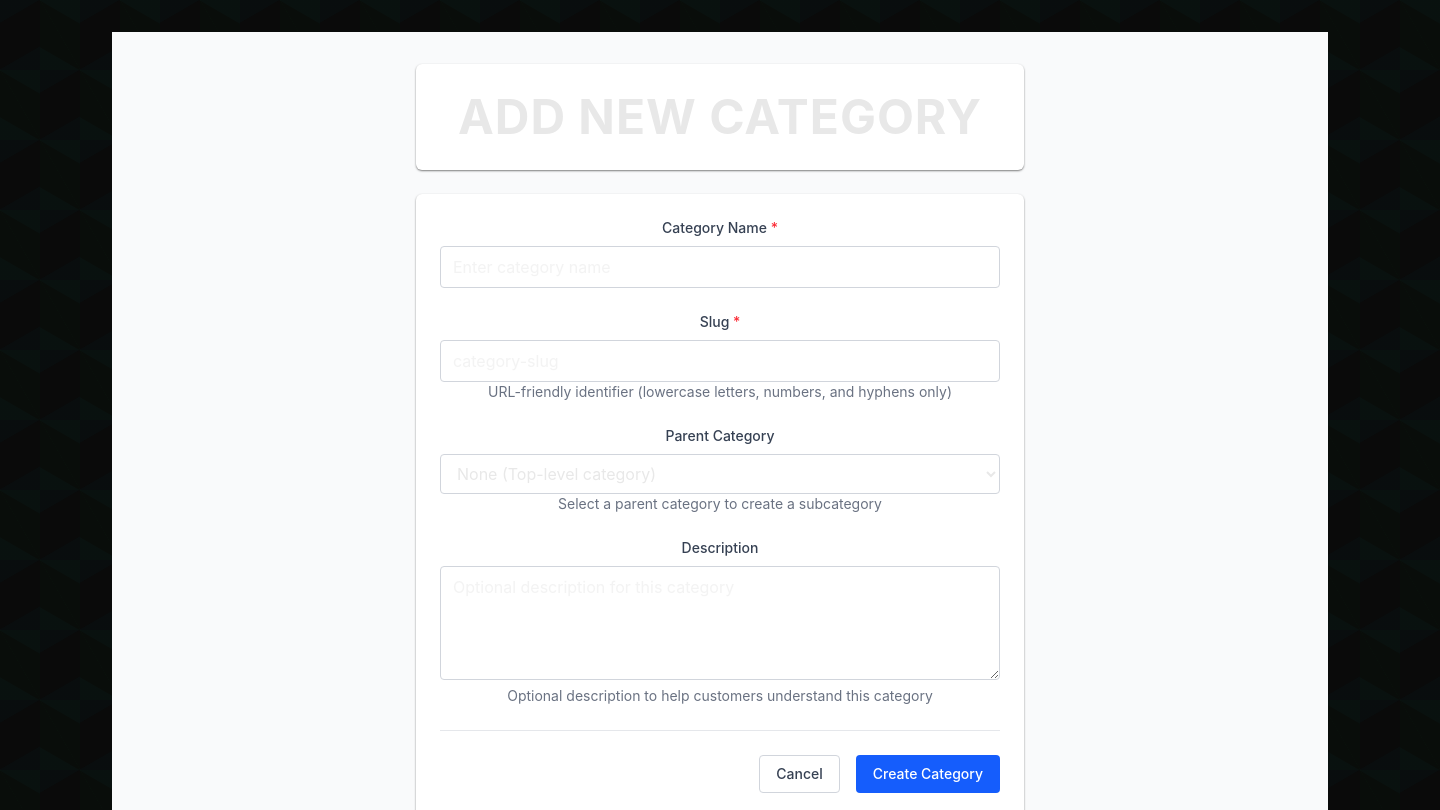
AdminCategoryFormPage › validates required fields on submit
Click the button "Create Category" at [928, 774], box x1=856 y1=755 x2=1000 y2=793
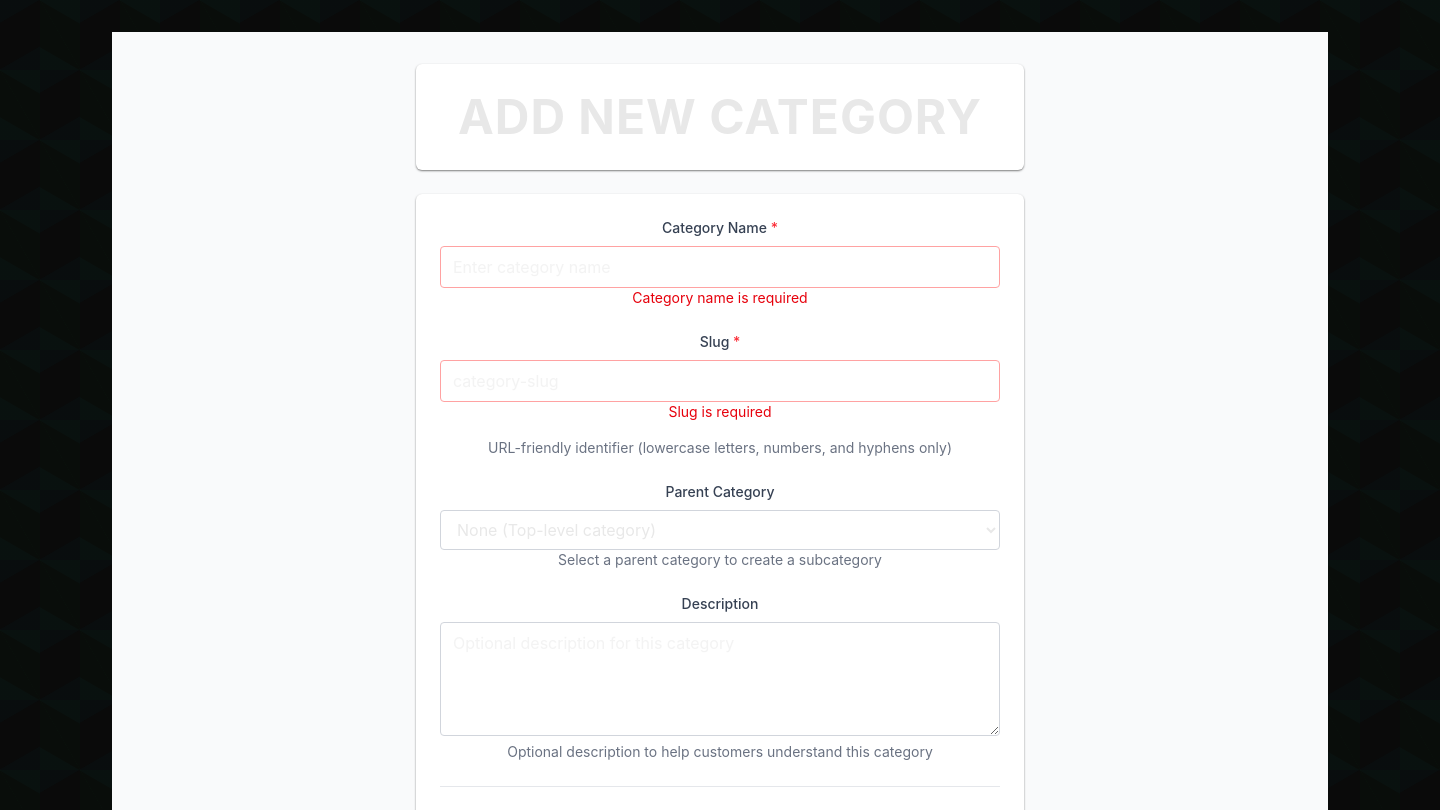
Expected: the text "Category name is required" is shown, x1=632 y1=289 x2=808 y2=306
Expected: the text "Slug is required" is shown, x1=668 y1=403 x2=772 y2=420
